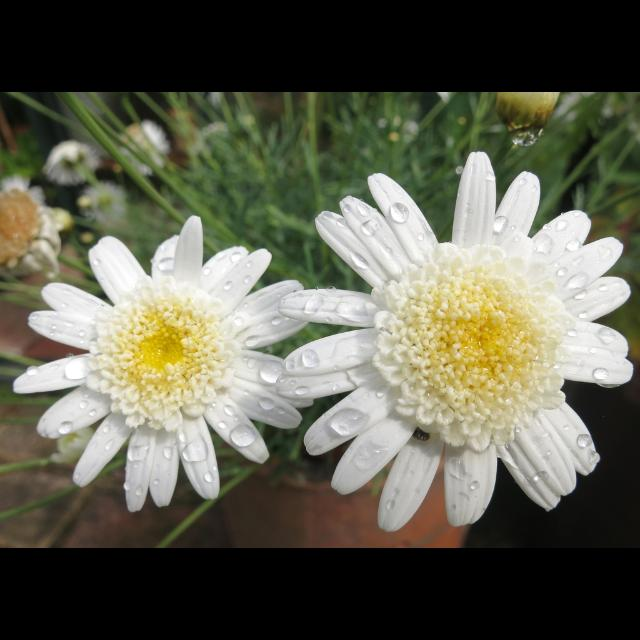Flower: (280, 146, 636, 528), (27, 220, 299, 522)
